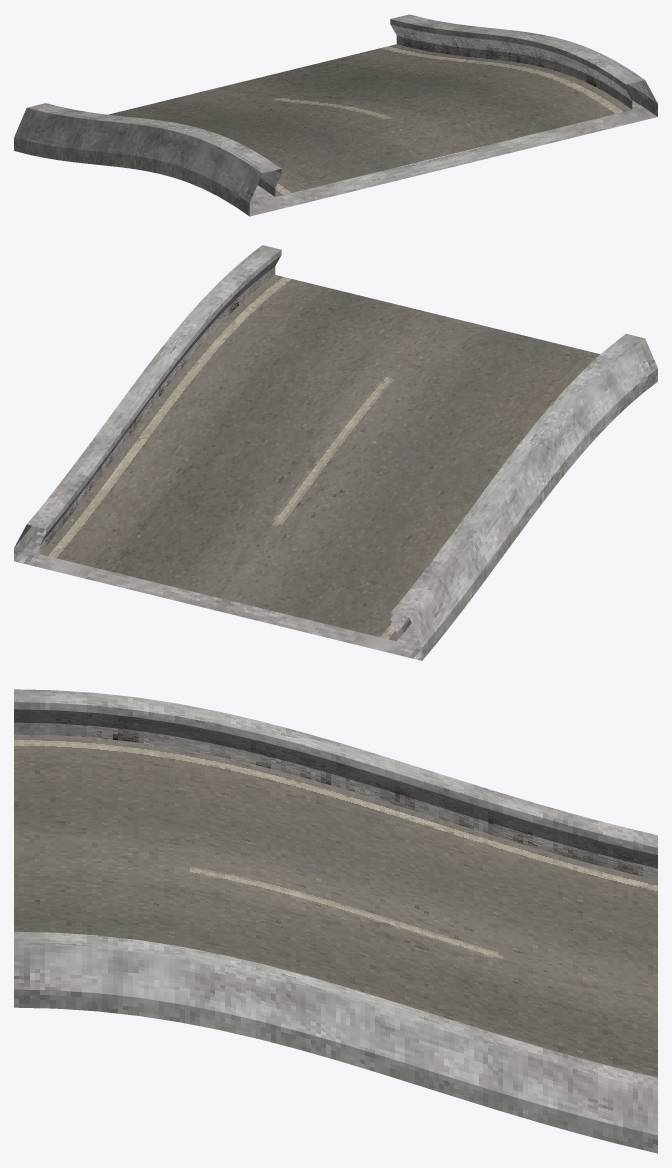
Rendered from road-Straight-Flat-BiSlopeDown-Down1-Center-Size1.glb.
The picture shows the model from 3 angles, top to bottom: view 1: azimuth 30°, elevation 25°; view 2: azimuth 150°, elevation 25°; view 3: azimuth 270°, elevation 25°; orthographic projection. The views are drawn at different scales.
Parts seen in each view (by area): view 1: road-Straight-Flat-BiSlopeDown-Down1-Center-Size1; view 2: road-Straight-Flat-BiSlopeDown-Down1-Center-Size1; view 3: road-Straight-Flat-BiSlopeDown-Down1-Center-Size1.
Boxes of the visible parts, x1,y1,x2,y2 form: road-Straight-Flat-BiSlopeDown-Down1-Center-Size1: [14, 14, 657, 216]; road-Straight-Flat-BiSlopeDown-Down1-Center-Size1: [14, 245, 657, 660]; road-Straight-Flat-BiSlopeDown-Down1-Center-Size1: [14, 689, 657, 1153].
Bounding box in the file's own units: 1 × 0.3438 × 1.
Materials: 2 (2 with a texture image).
